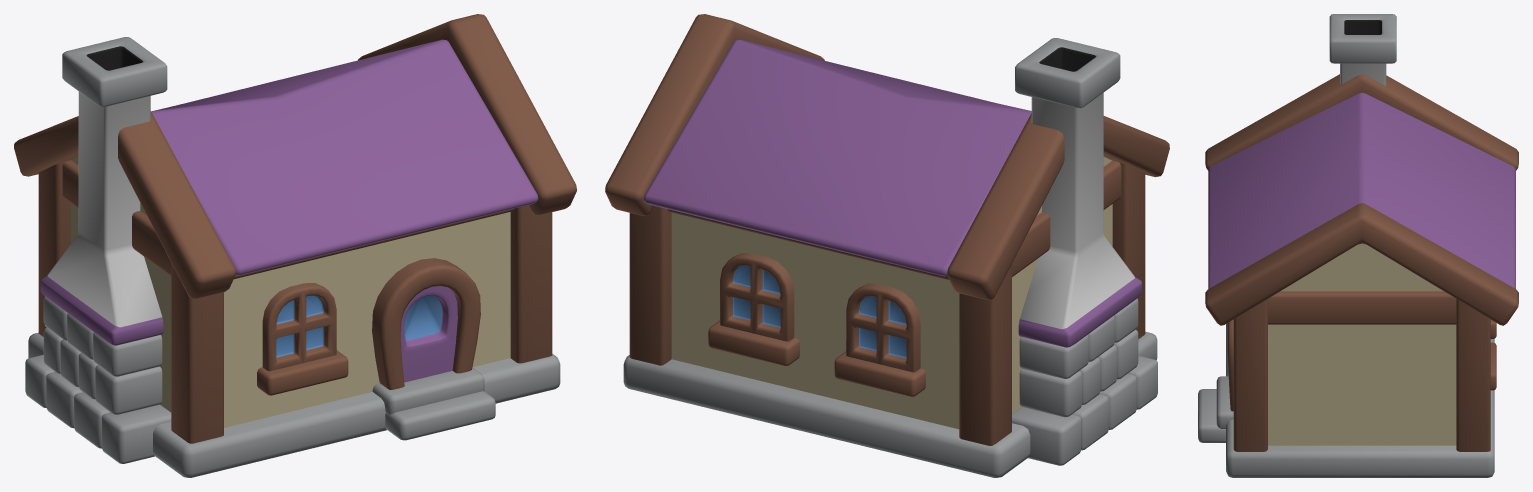
The model's file is house3.fbx.
3 renders of one model, left to right at view 1: azimuth 30°, elevation 25°; view 2: azimuth 150°, elevation 25°; view 3: azimuth 270°, elevation 25°, orthographic. The views are drawn at different scales.
Visible parts, largest first — view 1: house3; view 2: house3; view 3: house3.
Part boxes in pixels (x1,y1,x2,y2): house3: [14, 14, 576, 477]; house3: [605, 14, 1169, 477]; house3: [1198, 14, 1518, 477].
Bounding box in the file's own units: 350 × 293 × 280.
